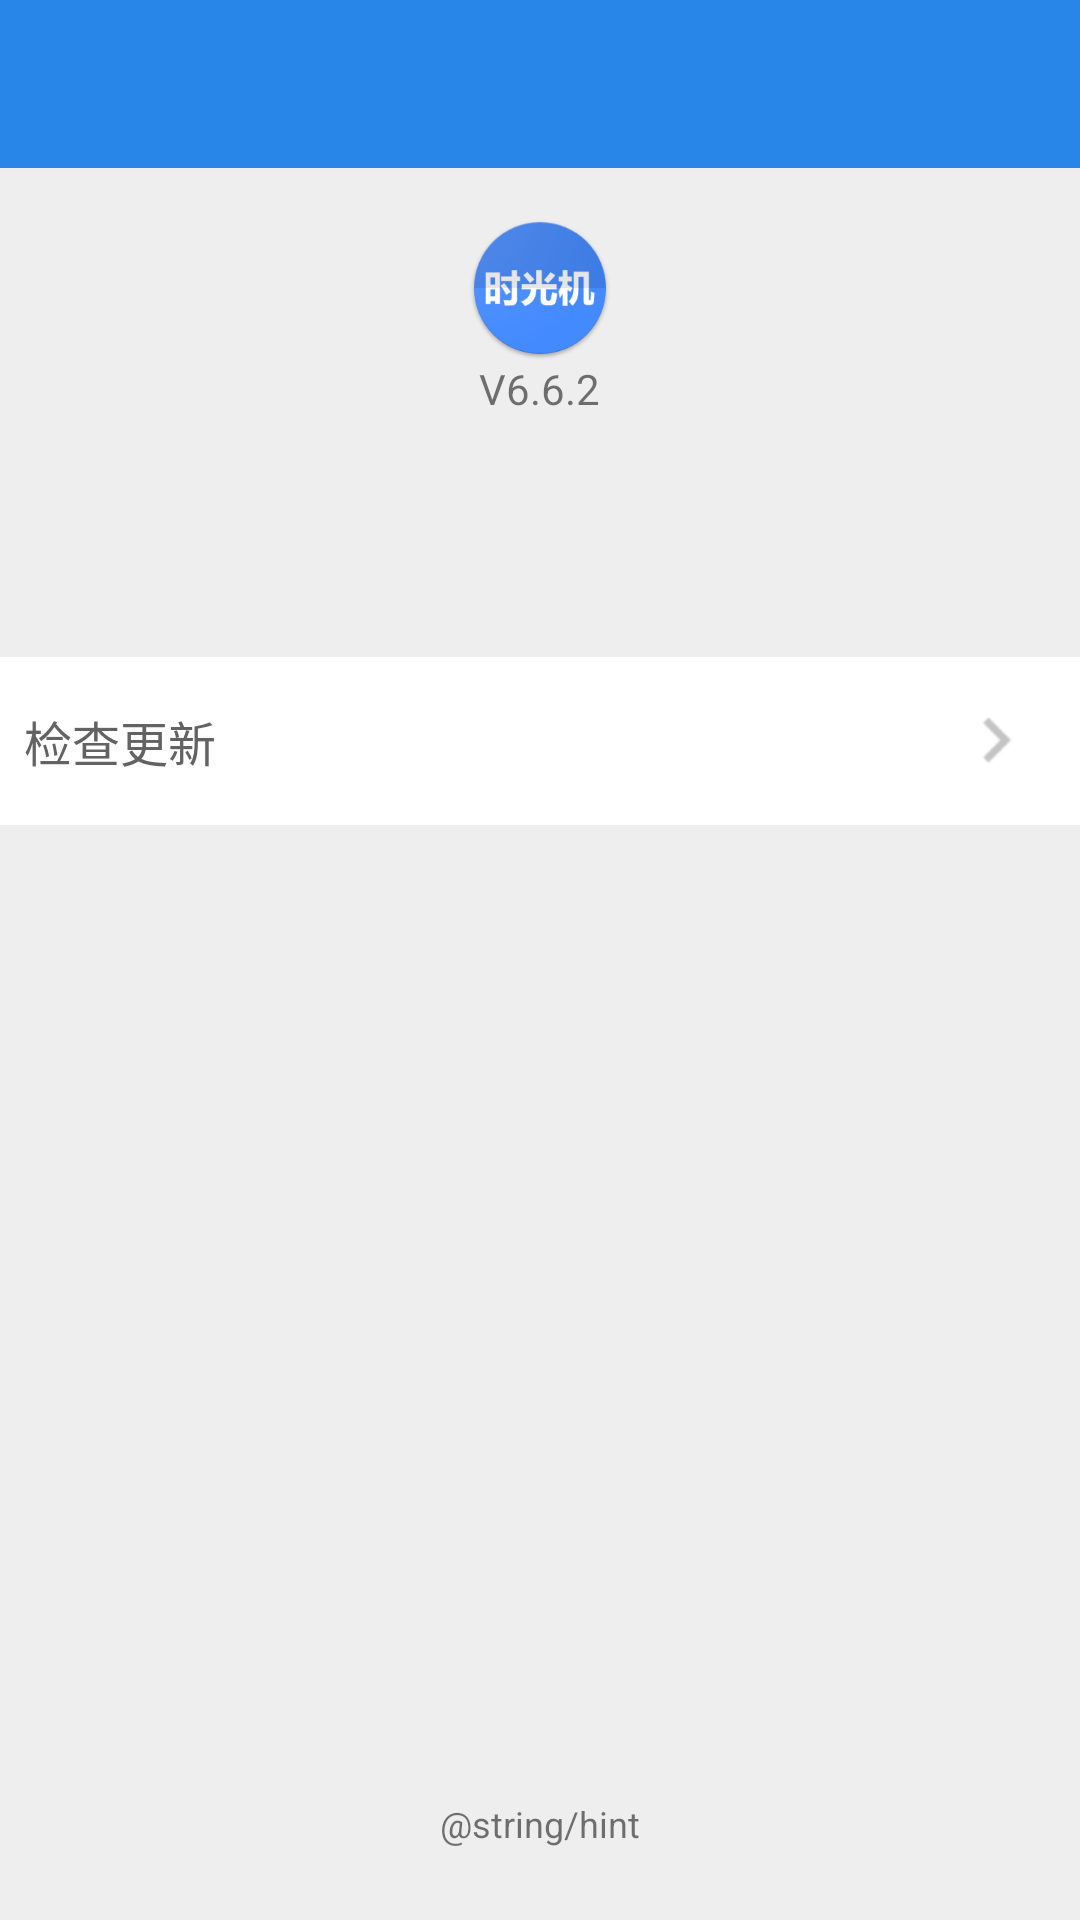

Screen size 1080*1920. Icon name, then its center in pixels as (x=x, y=y):
arrow right: (x=997, y=740)
